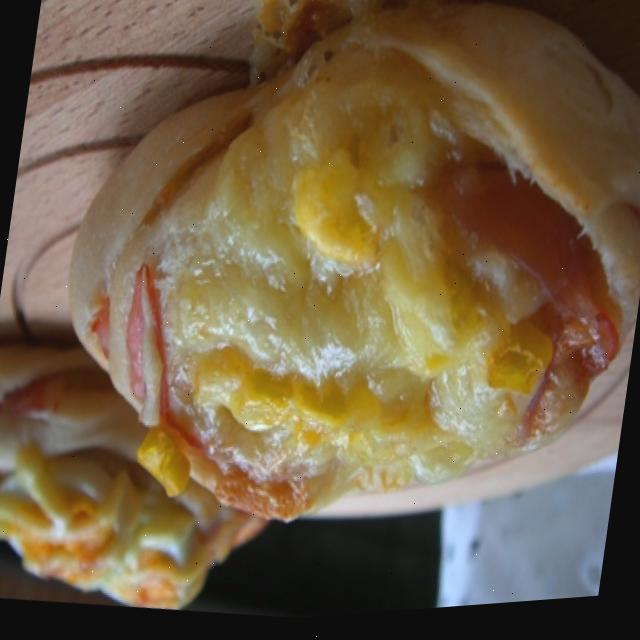三明治: (46, 0, 640, 603)
